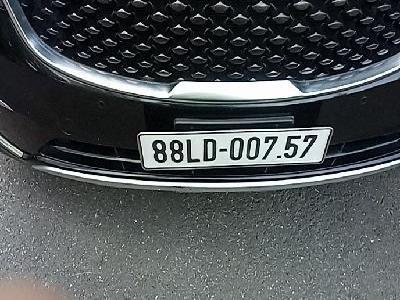car: (136, 126, 334, 172)
